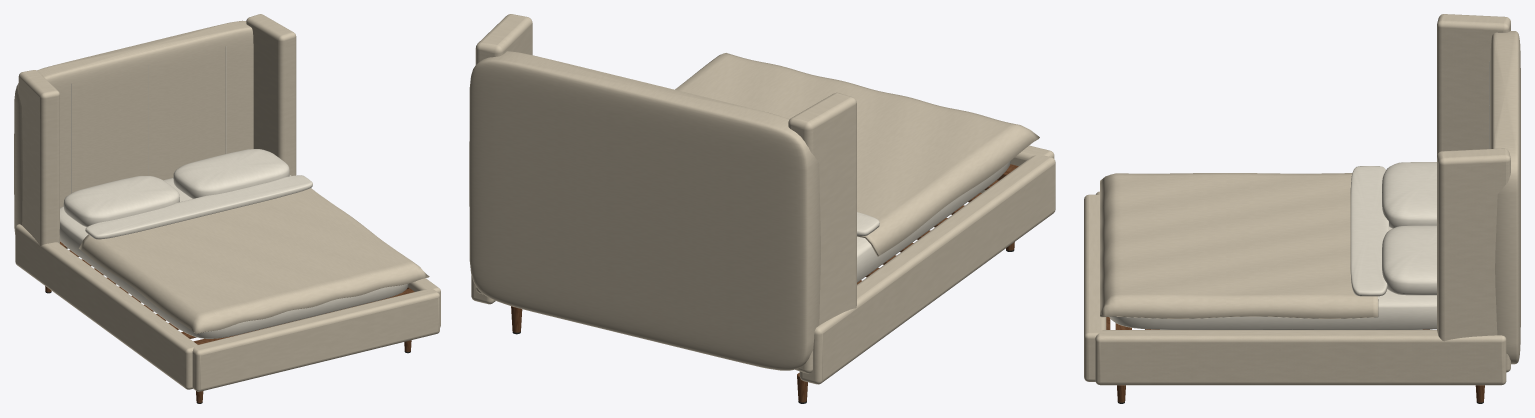
File: hush_wingback_bed.glb
3 views of the same model, side by side, from view 1: azimuth 30°, elevation 25°; view 2: azimuth 150°, elevation 25°; view 3: azimuth 270°, elevation 25° (orthographic). The views are drawn at different scales.
Visible parts, largest first — view 1: Bedding | softly draped quilt, Headboard | tall padded field, Upholstered | padded foot rail, Upholstered | padded side rail, Headboard | upholstered wing, Headboard | upholstered wing.001, Bedding | folded return, Mattress | upholstered ticking, Bedding | sewn pillow, Bedding | sewn pillow.001; view 2: Headboard | tall padded field, Bedding | softly draped quilt, Upholstered | padded side rail, Headboard | upholstered wing, Mattress | upholstered ticking, Headboard | upholstered wing.001; view 3: Bedding | softly draped quilt, Upholstered | padded side rail.001, Headboard | upholstered wing.001, Headboard | tall padded field, Headboard | upholstered wing, Mattress | upholstered ticking, Bedding | folded return, Bedding | sewn pillow.001, Bedding | sewn pillow, Upholstered | padded foot rail.
Boxes of the visible parts, x1,y1,x2,y2 form: Bedding | softly draped quilt: (79, 188, 429, 333); Headboard | tall padded field: (14, 20, 253, 248); Upholstered | padded foot rail: (192, 288, 439, 391); Upholstered | padded side rail: (15, 224, 197, 389); Headboard | upholstered wing: (18, 70, 59, 245); Headboard | upholstered wing.001: (246, 14, 296, 175); Bedding | folded return: (85, 175, 312, 239); Mattress | upholstered ticking: (59, 175, 408, 338); Bedding | sewn pillow: (63, 176, 179, 227); Bedding | sewn pillow.001: (173, 149, 289, 198); Headboard | tall padded field: (469, 51, 820, 370); Bedding | softly draped quilt: (675, 53, 1039, 256); Upholstered | padded side rail: (799, 154, 1055, 384); Headboard | upholstered wing: (788, 92, 856, 373); Mattress | upholstered ticking: (857, 161, 1010, 282); Headboard | upholstered wing.001: (475, 14, 532, 294); Bedding | softly draped quilt: (1100, 173, 1378, 318); Upholstered | padded side rail.001: (1095, 330, 1506, 385); Headboard | upholstered wing.001: (1437, 148, 1510, 372); Headboard | tall padded field: (1490, 31, 1520, 364); Headboard | upholstered wing: (1437, 14, 1510, 154); Mattress | upholstered ticking: (1109, 227, 1436, 329); Bedding | folded return: (1350, 166, 1388, 296); Bedding | sewn pillow.001: (1382, 225, 1436, 295); Bedding | sewn pillow: (1382, 162, 1436, 228); Upholstered | padded foot rail: (1084, 194, 1106, 381).
Size of the model in its own units: 1.82 by 1.46 by 2.26.
Materials: 4 (3 with a texture image).
